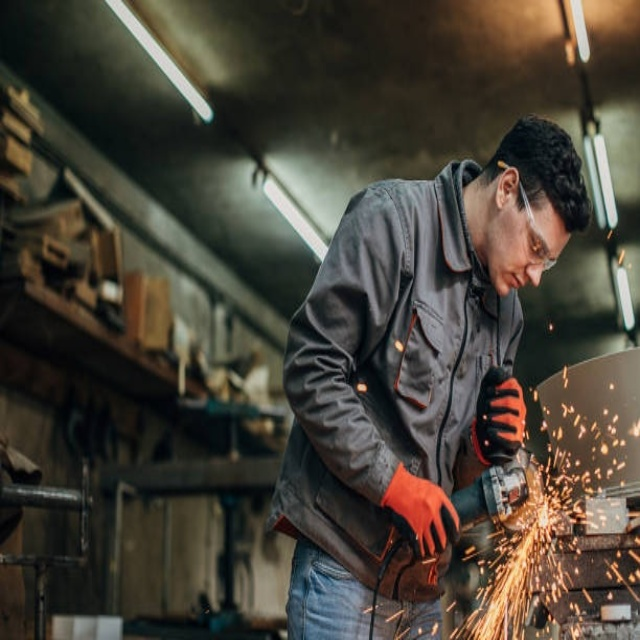Gafas: (505, 174, 558, 277)
Guantes: (382, 461, 460, 559), (473, 370, 527, 465)
Sin_mascara: (499, 264, 532, 304)
